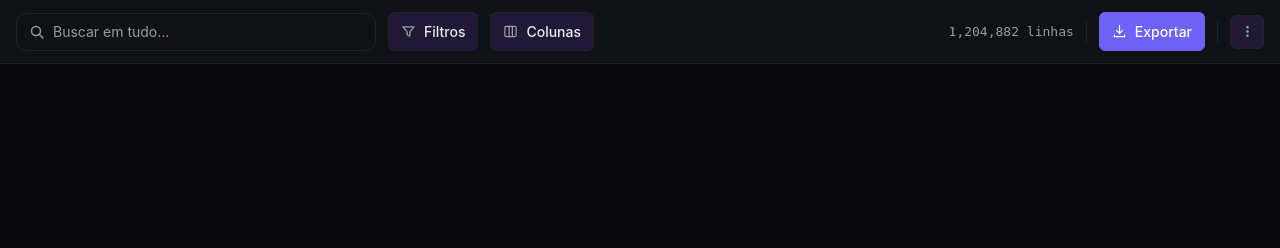
Test case: ViewerToolbar › limpa a busca do menu "Colunas" ao fechar e reabrir o menu
Click the button with class "dropdown__trigger" showing "Colunas" at x=542, y=32, box 490,12 -> 594,51
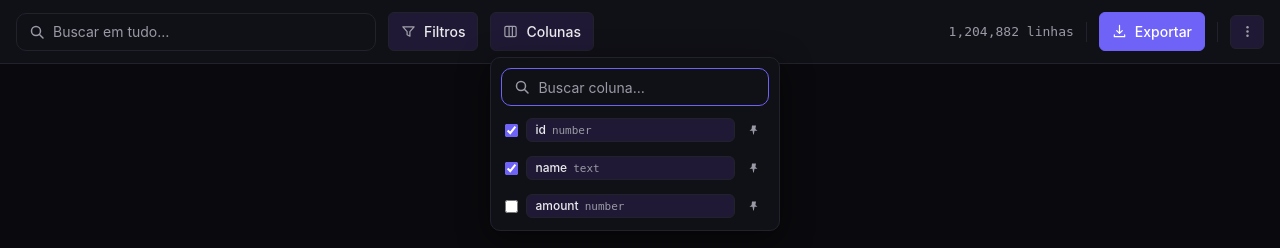
Type "id" into the search field with placeholder "Buscar coluna…" at x=647, y=87, box 538,69 -> 756,105
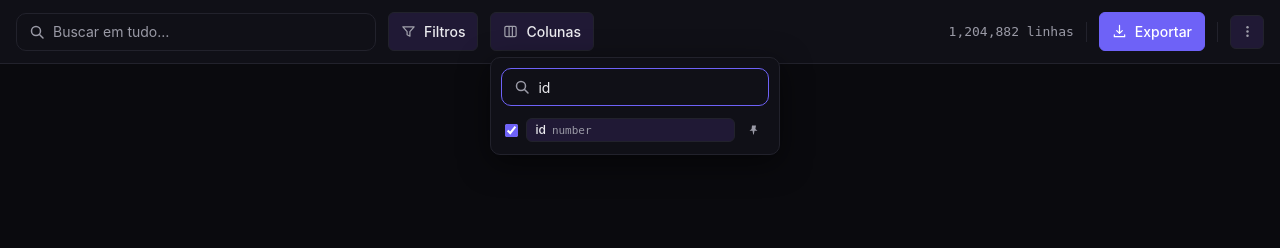
Now the number of elements with class "columns-menu__item" is 1, box 497,112 -> 773,148
Note: Fecha e reabre o menu.
Click the button with class "dropdown__trigger" showing "Colunas" at x=542, y=32, box 490,12 -> 594,51
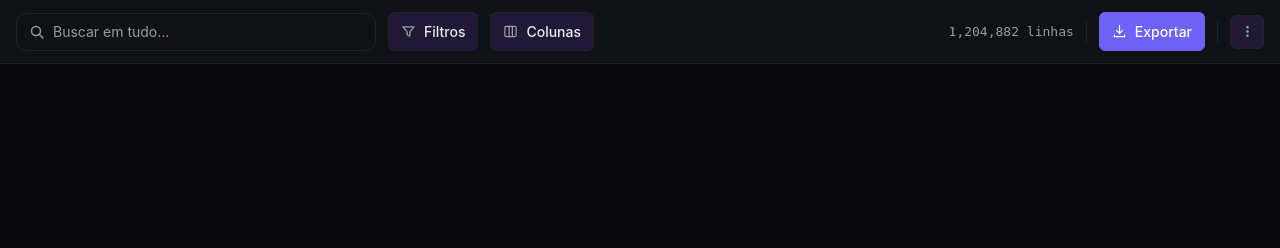
Click the button with class "dropdown__trigger" showing "Colunas" at x=542, y=32, box 490,12 -> 594,51
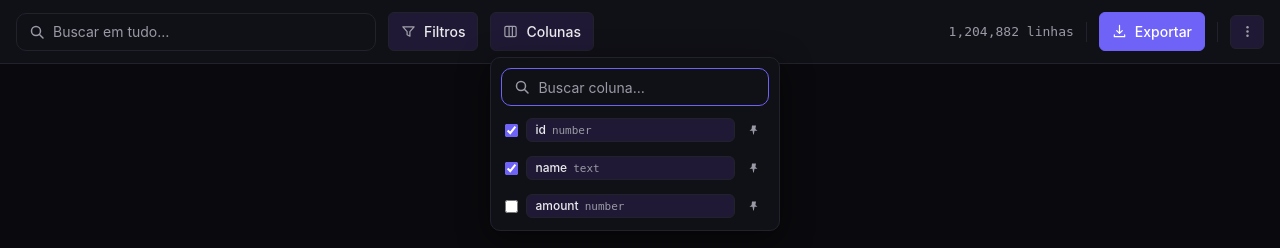
Now the search field with placeholder "Buscar coluna…" is empty, box 538,69 -> 756,105
Now the number of elements with class "columns-menu__item" is 3, box 497,112 -> 773,148; 497,150 -> 773,186; 497,188 -> 773,224
